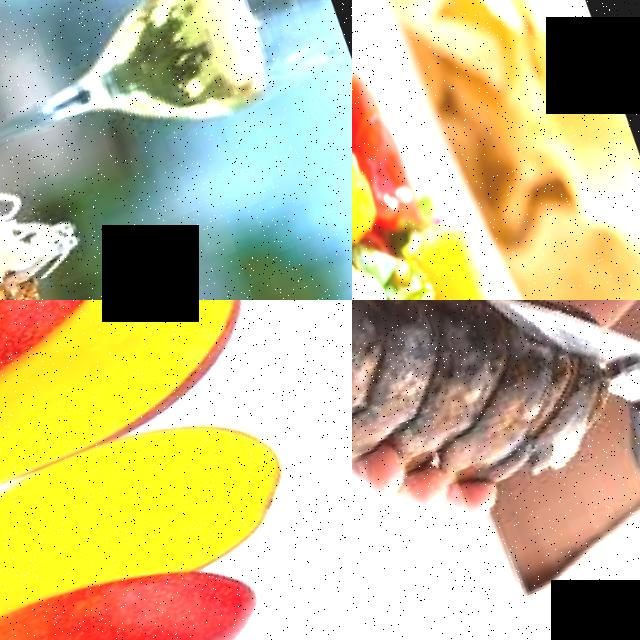lobster tails: (352, 300, 442, 532)
mango: (0, 378, 313, 640), (0, 300, 283, 530), (0, 519, 289, 640), (0, 300, 176, 467)
